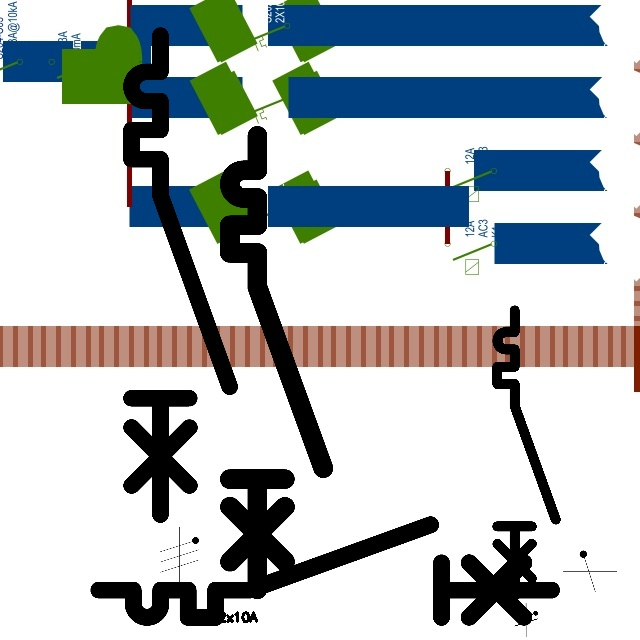interruptor_termomagnetico: (119, 23, 242, 527), (218, 124, 334, 601), (87, 513, 563, 629), (490, 303, 563, 603)
